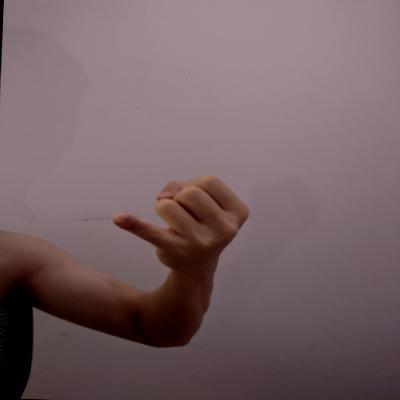hand: (106, 166, 260, 278)
